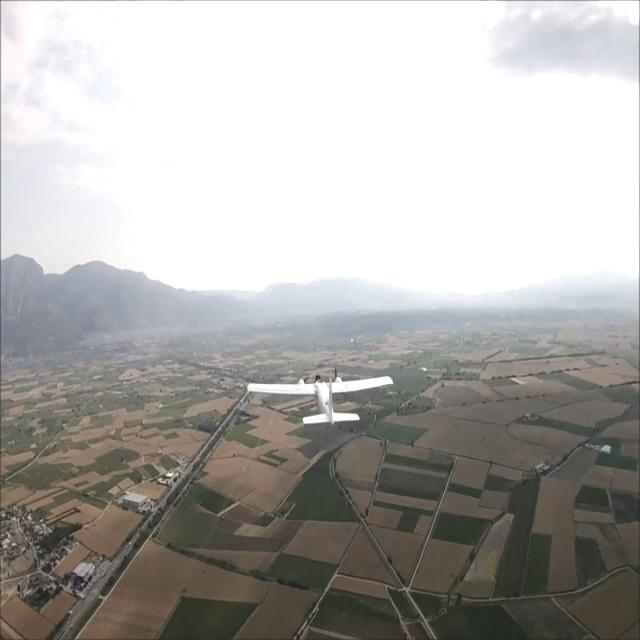iha: (247, 357, 398, 420)
